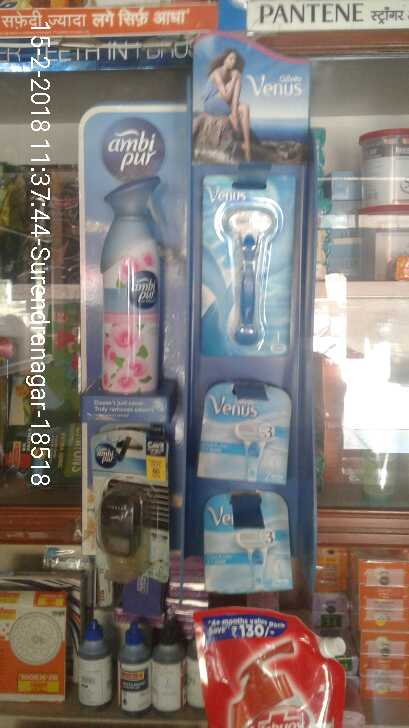beauty: (188, 161, 298, 353), (197, 489, 303, 594), (198, 369, 288, 486)
home: (80, 426, 180, 589), (100, 172, 165, 396)
